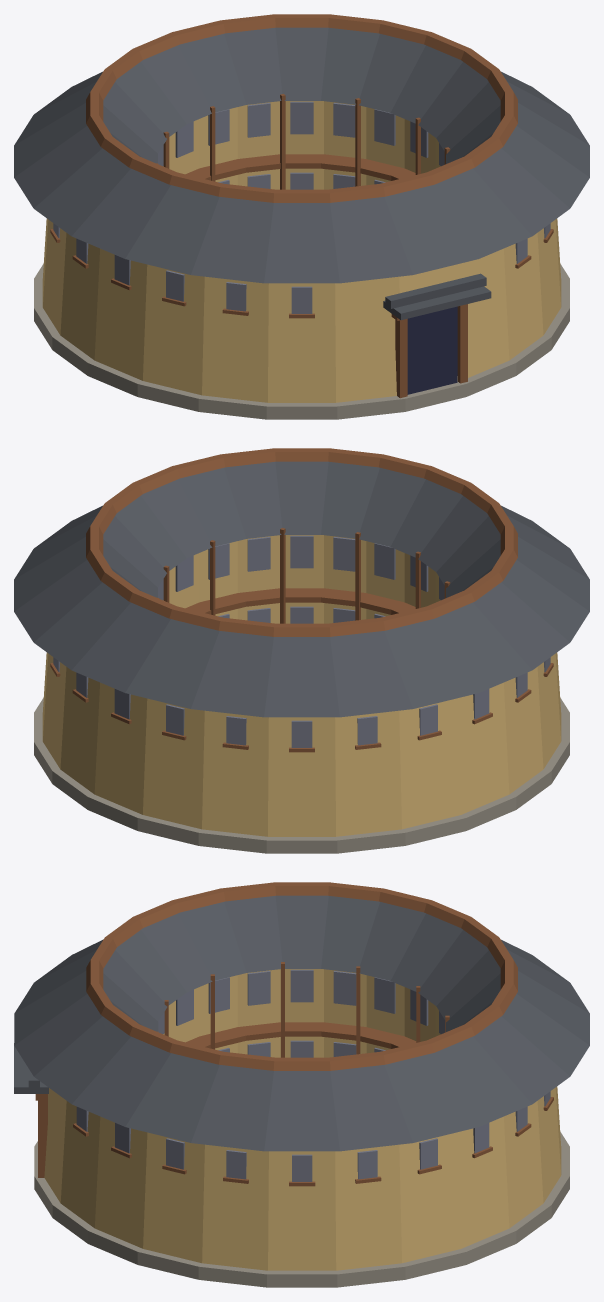
The model's file is house-2x2-2f-tulou-a.glb.
The picture shows the model from 3 angles, top to bottom: view 1: azimuth 30°, elevation 25°; view 2: azimuth 150°, elevation 25°; view 3: azimuth 270°, elevation 25°; orthographic projection.
Parts seen in each view (by area): view 1: house-2x2-2f-tulou-a; view 2: house-2x2-2f-tulou-a; view 3: house-2x2-2f-tulou-a.
Boxes of the visible parts, x1,y1,x2,y2 form: house-2x2-2f-tulou-a: (14,14,589,419); house-2x2-2f-tulou-a: (14,448,589,853); house-2x2-2f-tulou-a: (14,882,589,1287).
Bounding box in the file's own units: 1.98 × 0.77 × 1.98.
Materials: 1 (1 with a texture image).
